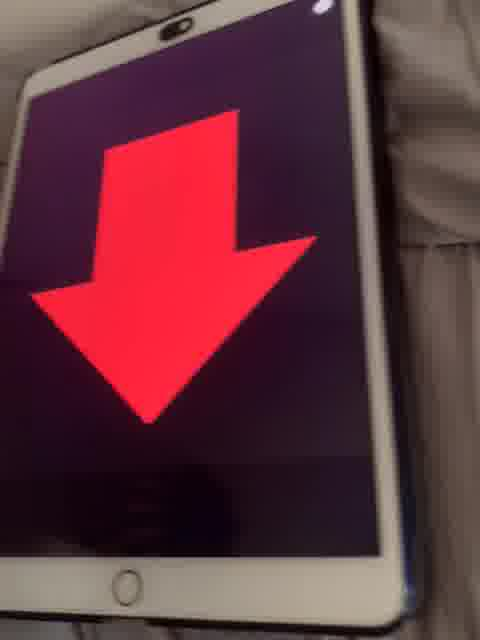down: (28, 103, 317, 436)
